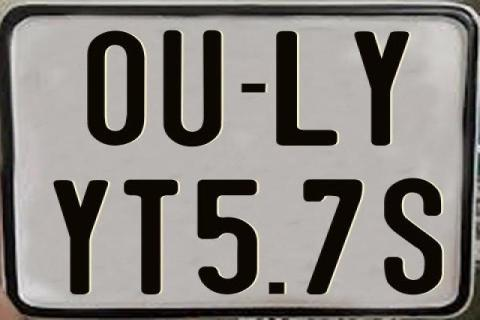0: (195, 180, 258, 300), (85, 28, 149, 145), (303, 177, 363, 297)
L: (274, 31, 338, 147)
S: (382, 178, 440, 296)
T: (122, 178, 182, 294)
U: (164, 30, 226, 146)
Y: (50, 180, 111, 298), (352, 31, 412, 148)
